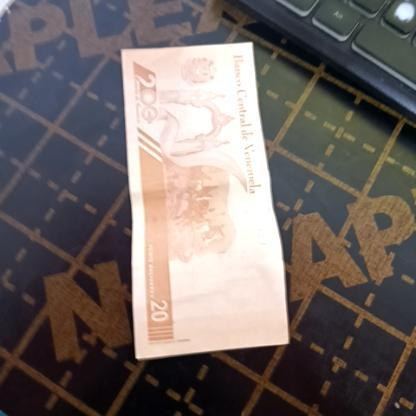twenty-back-vef: (120, 41, 285, 362)
